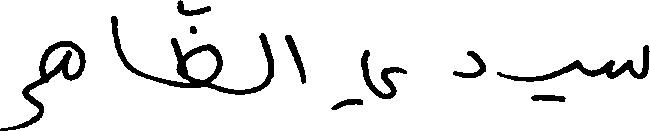X: (334, 45, 404, 114), (172, 0, 221, 96), (500, 55, 581, 106), (41, 36, 81, 122), (0, 61, 39, 130), (609, 40, 649, 83), (455, 46, 483, 82), (287, 30, 304, 88), (114, 11, 126, 72), (262, 28, 272, 93)
